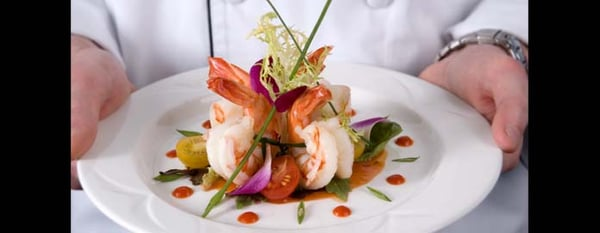curry: (82, 7, 529, 228)
